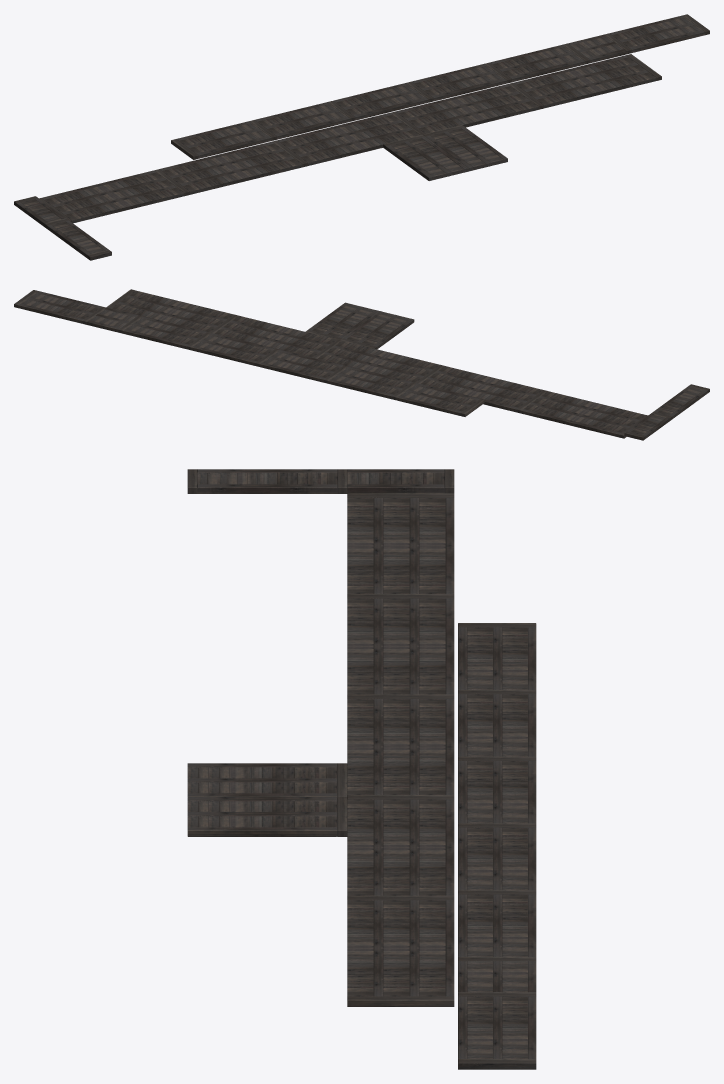
File: SM_Unhyun_Iro_Maru_C001.fbx
The picture shows the model from 3 angles, top to bottom: view 1: azimuth 30°, elevation 25°; view 2: azimuth 150°, elevation 25°; view 3: azimuth 270°, elevation 25°; orthographic projection. The views are drawn at different scales.
Parts seen in each view (by area): view 1: SM_Unhyun_Iro_Maru_C001; view 2: SM_Unhyun_Iro_Maru_C001; view 3: SM_Unhyun_Iro_Maru_C001.
Boxes of the visible parts, bbox=[...] form: SM_Unhyun_Iro_Maru_C001: bbox=[14, 14, 709, 260]; SM_Unhyun_Iro_Maru_C001: bbox=[14, 289, 709, 440]; SM_Unhyun_Iro_Maru_C001: bbox=[187, 469, 536, 1069].
Size of the model in its own units: 2298 by 21.63 by 570.
